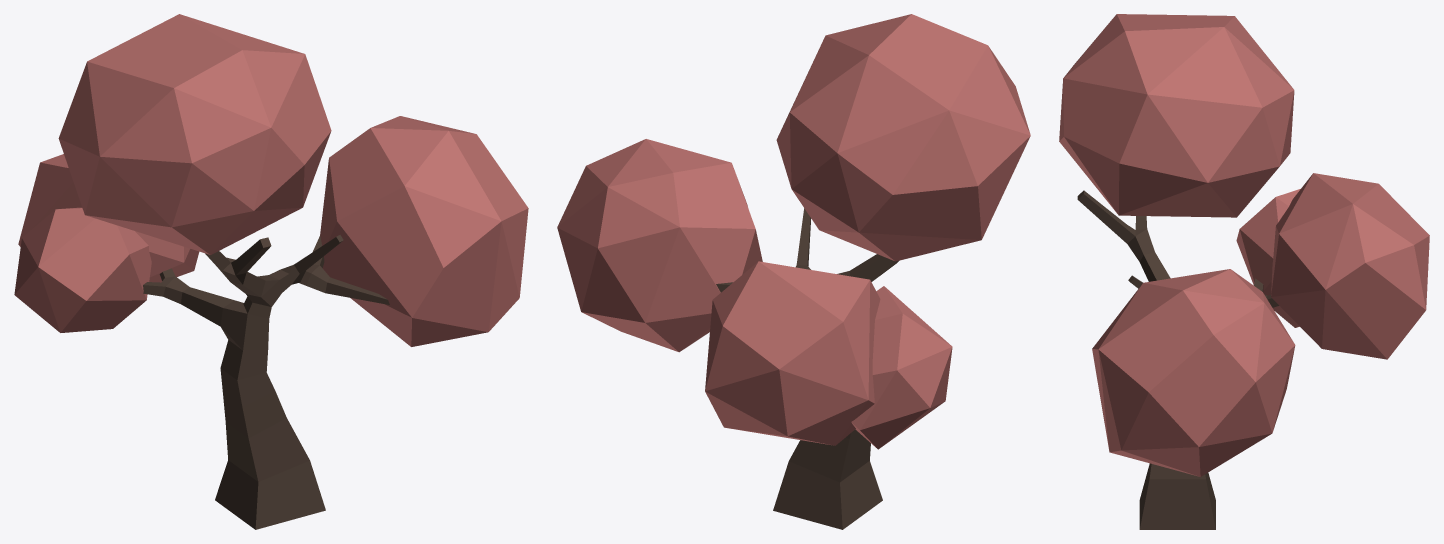
Rendered from redtree2.fbx.
The picture shows the model from 3 angles, left to right: view 1: azimuth 30°, elevation 25°; view 2: azimuth 150°, elevation 25°; view 3: azimuth 270°, elevation 25°; orthographic projection. The views are drawn at different scales.
Visible parts, largest first — view 1: redtree2; view 2: redtree2; view 3: redtree2.
Part boxes in pixels (x1=…): redtree2: x1=14, y1=14, x2=528, y2=529; redtree2: x1=557, y1=14, x2=1030, y2=529; redtree2: x1=1059, y1=14, x2=1429, y2=529.
Size of the model in its own units: 1424 by 1535 by 1123.
